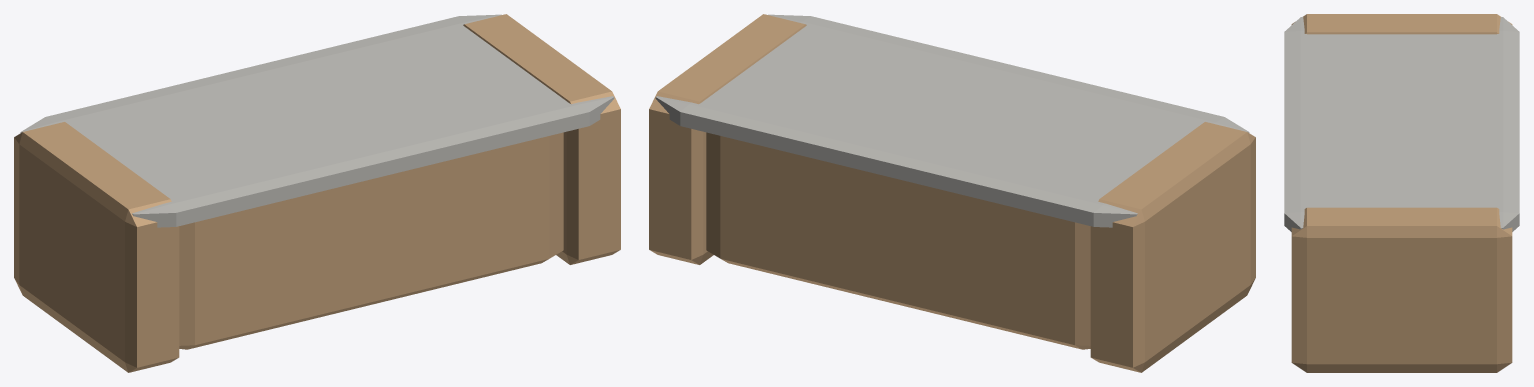
Rendered from b19_timber_sleeper_retaining_wall.glb.
The picture shows the model from 3 angles, left to right: view 1: azimuth 30°, elevation 25°; view 2: azimuth 150°, elevation 25°; view 3: azimuth 270°, elevation 25°; orthographic projection. The views are drawn at different scales.
Visible parts, largest first — view 1: b19_timber_sleeper_retaining_wall; view 2: b19_timber_sleeper_retaining_wall; view 3: b19_timber_sleeper_retaining_wall.
Boxes of the visible parts, left/top/right/bottom form: b19_timber_sleeper_retaining_wall: left=14, top=14, right=620, bottom=372; b19_timber_sleeper_retaining_wall: left=649, top=14, right=1255, bottom=372; b19_timber_sleeper_retaining_wall: left=1284, top=14, right=1519, bottom=372.
Size of the model in its own units: 2.92 by 0.93 by 1.35.
